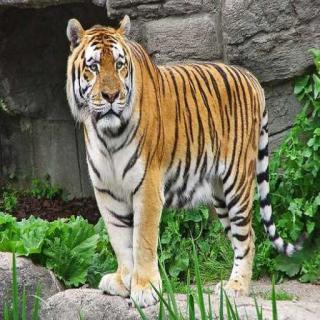Tiger: (46, 14, 296, 287)
